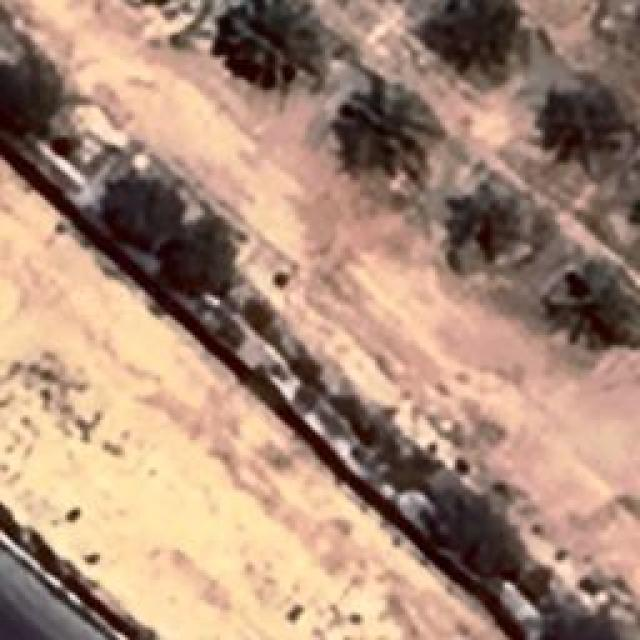PalmTree: (27, 42, 266, 99), (332, 74, 440, 188), (534, 84, 624, 172), (454, 190, 538, 270), (430, 0, 520, 68), (567, 274, 640, 354)
